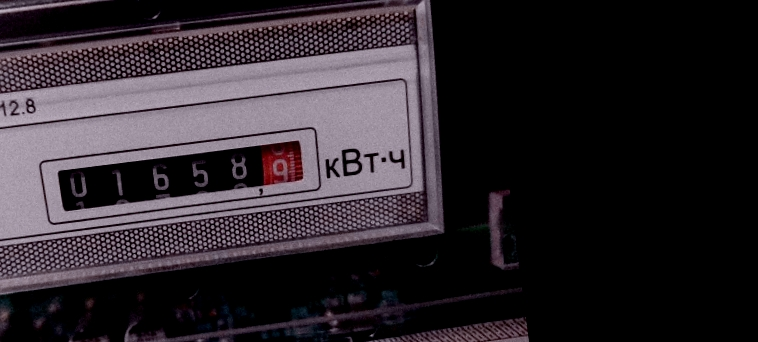0: (65, 165, 90, 199)
1: (109, 164, 126, 197)
5: (189, 155, 212, 189)
6: (149, 158, 173, 192)
8: (227, 148, 250, 182)
9: (268, 155, 290, 183)
screen: (30, 115, 329, 230)
